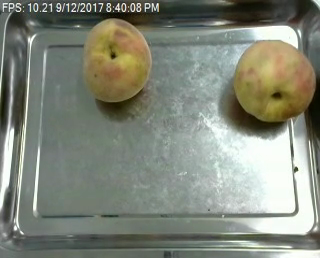Peach: (232, 39, 316, 123), (82, 18, 151, 102)
